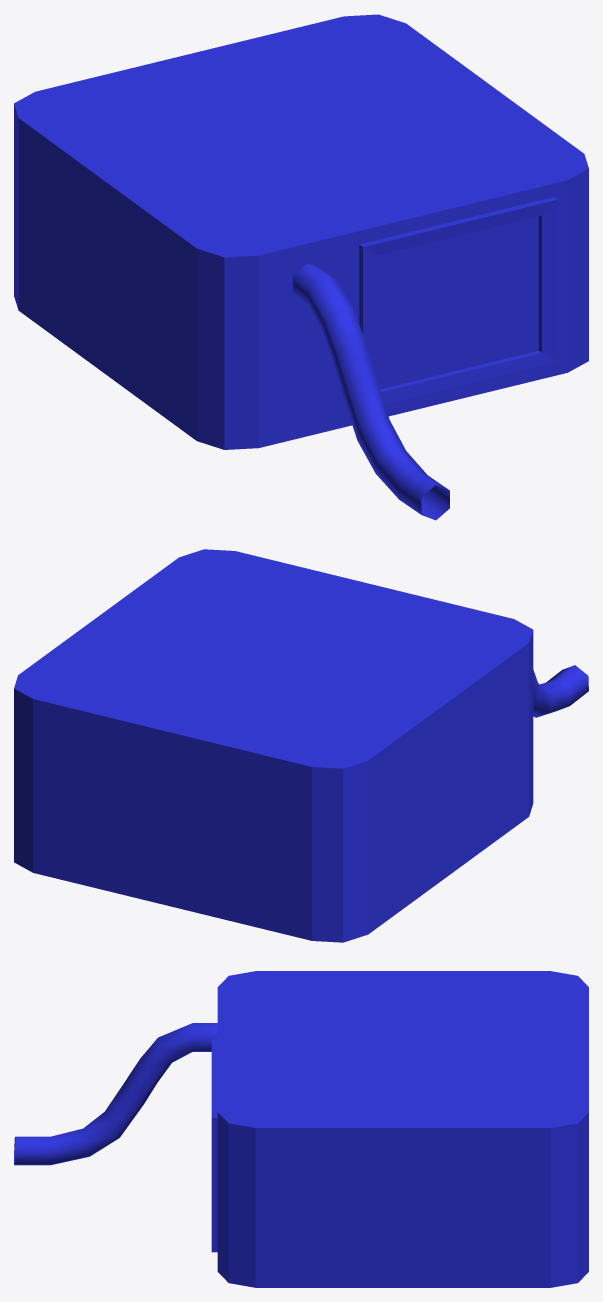
The model's file is Fonte.fbx.
The picture shows the model from 3 angles, top to bottom: view 1: azimuth 30°, elevation 25°; view 2: azimuth 150°, elevation 25°; view 3: azimuth 270°, elevation 25°; orthographic projection. The views are drawn at different scales.
Parts seen in each view (by area): view 1: Cube.002; view 2: Cube.002; view 3: Cube.002.
Boxes of the visible parts, box(x1,y1,x2,y2) form: Cube.002: box(14, 14, 588, 520); Cube.002: box(14, 549, 588, 942); Cube.002: box(14, 971, 588, 1287).
Bounding box in the file's own units: 459 × 218 × 711.
